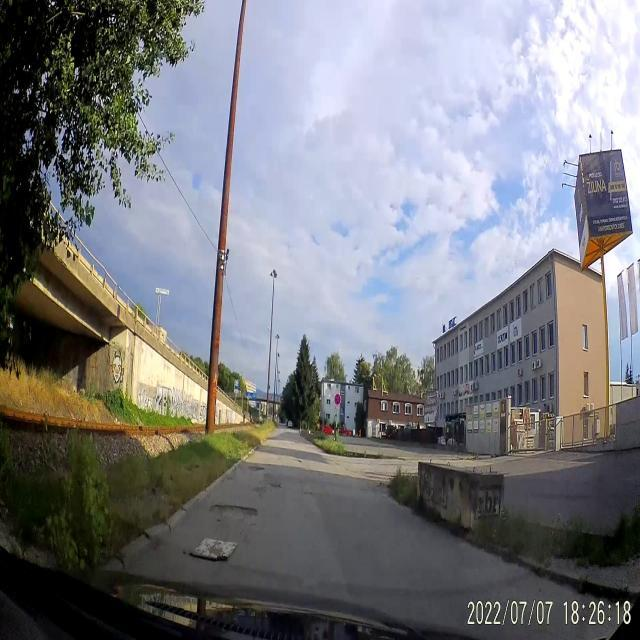Manhole: (188, 538, 238, 562)
Pothole: (207, 495, 262, 523), (246, 462, 268, 474), (270, 481, 282, 492), (253, 483, 266, 493), (303, 490, 316, 500), (292, 456, 304, 466)
